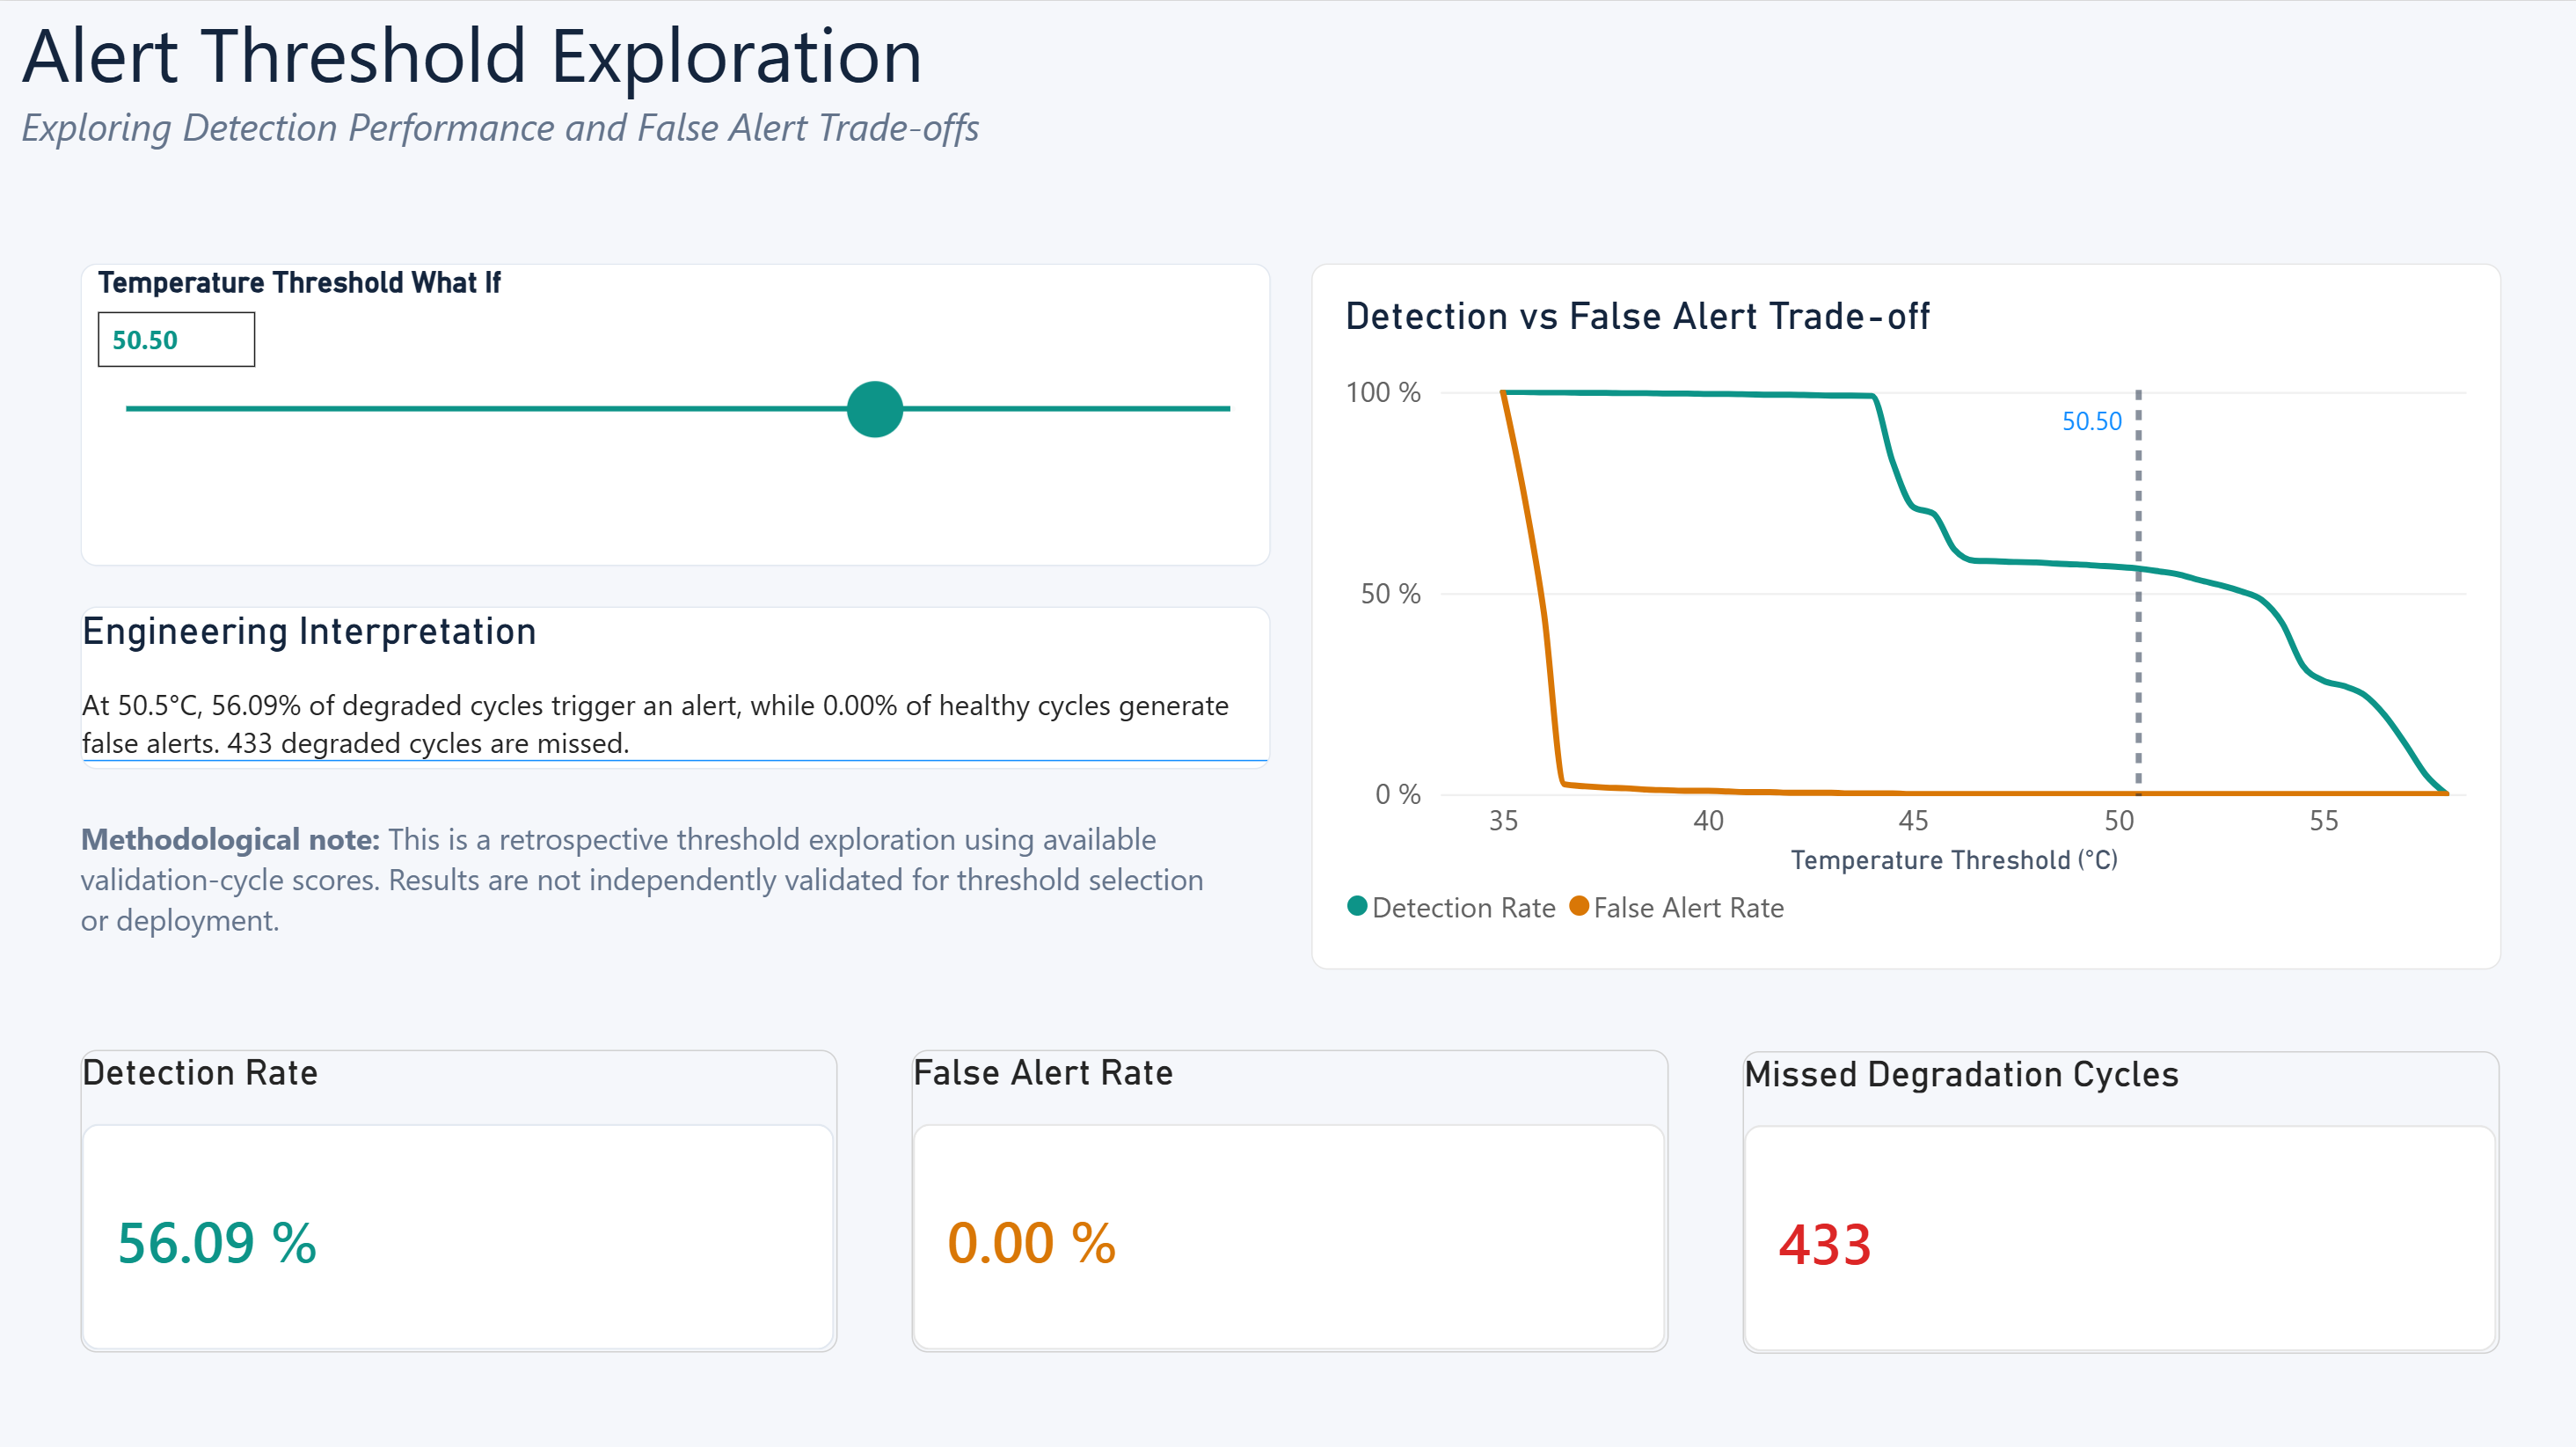

The page's visual inventory and layout, read from the dashboard file:
{"tool":"powerbi","page":{"name":"03 Threshold Exploration","canvas":[1280,720],"ordinal":2},"visuals":[{"type":"textbox","box":[10.2,0,508.6,80.2],"z":0},{"type":"slicer","fields":{"Values":["Temperature Threshold What If.Temperature Threshold What If"]},"box":[40.1,130,590,150],"z":1},{"type":"cardVisual","title":"Detection Rate","fields":{"Data":["Analytics Measures.What If Detection Rate"]},"box":[40.1,520,375,150],"z":2},{"type":"cardVisual","title":"False Alert Rate","fields":{"Data":["Analytics Measures.What If False Alert Rate"]},"box":[452,520,375,150],"z":3},{"type":"cardVisual","title":"Missed Degradation Cycles","fields":{"Data":["Analytics Measures.What If Missed Degradation Cycles"]},"box":[864,520.3,375,150.1],"z":4},{"type":"lineChart","title":"Detection vs False Alert Trade-off","fields":{"Category":["Threshold Sweep.Threshold_C"],"Y":["Analytics Measures.Detection Rate by Threshold","Analytics Measures.False Alert Rate by Threshold"]},"box":[650,130,590,350],"z":6},{"type":"textbox","title":"Engineering Interpretation","box":[40.1,300.3,590.3,81],"z":7},{"type":"textbox","box":[40.1,404.8,565.2,65.2],"z":8}]}

Visuals, with their boxes in screenshot pixels (x1, y1, x2, y2), scaled from the page's 1280x720 canvas onto the 2576x1447 screenshot:
textbox: 20:0:1044:161
slicer - Temperature Threshold What If.Temperature Threshold What If: 81:261:1268:563
"Detection Rate" cardVisual: 81:1045:836:1347
"False Alert Rate" cardVisual: 909:1045:1664:1347
"Missed Degradation Cycles" cardVisual: 1739:1046:2493:1348
"Detection vs False Alert Trade-off" lineChart: 1308:261:2495:965
"Engineering Interpretation" textbox: 81:603:1269:766
textbox: 81:814:1218:945
